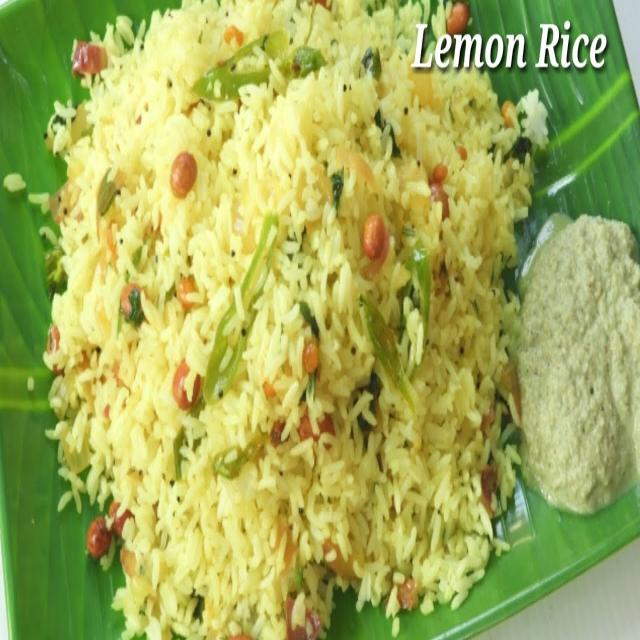lemon rice: (22, 0, 548, 640)
